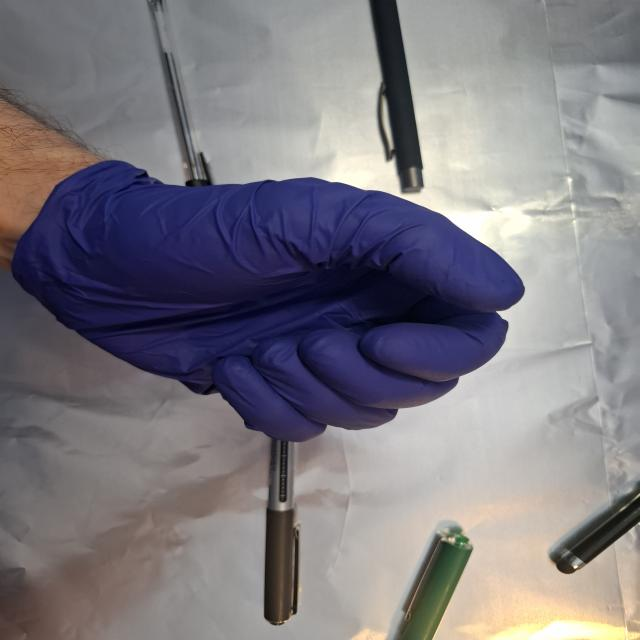glove_on: (13, 163, 529, 445)
